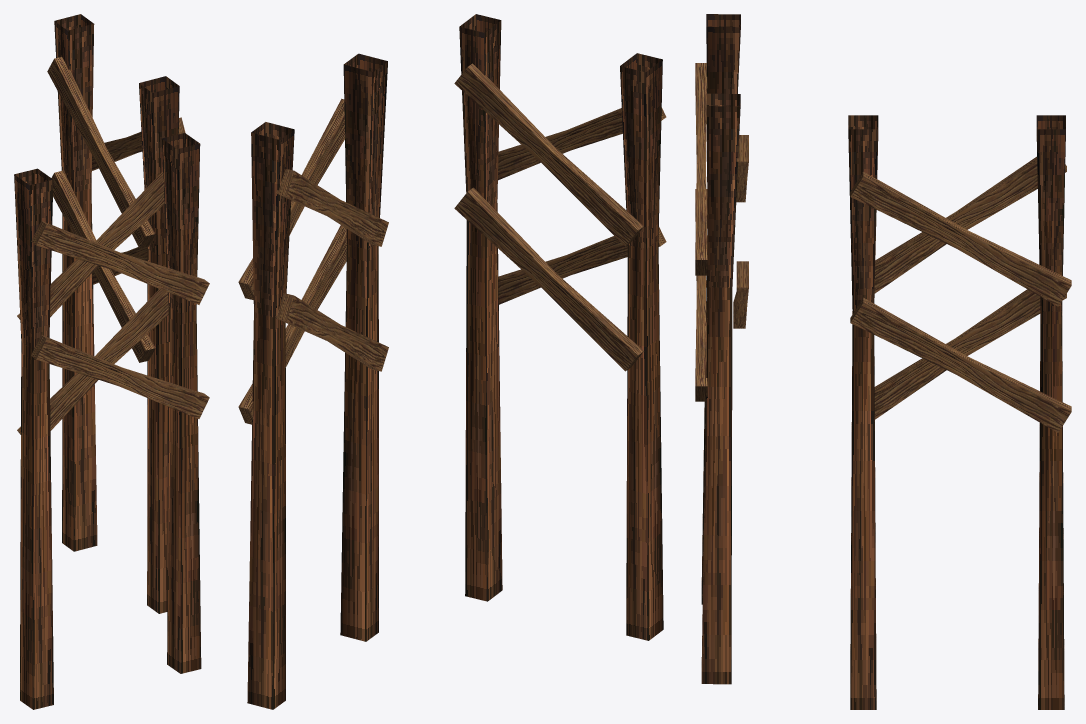
Rendered from LAKETOWN_WAREHOUSE2_PS_WH2_BIG_PLATPOSTS664__GX.obj.
The picture shows the model from 3 angles, left to right: view 1: azimuth 30°, elevation 25°; view 2: azimuth 150°, elevation 25°; view 3: azimuth 270°, elevation 25°; orthographic projection. The views are drawn at different scales.
Visible parts, largest first — view 1: latPosts664__GX; view 2: latPosts664__GX; view 3: latPosts664__GX.
Part boxes in pixels (x1,y1,x2,y2): latPosts664__GX: [14, 14, 209, 709]; latPosts664__GX: [238, 14, 666, 709]; latPosts664__GX: [695, 14, 1071, 709].
Bounding box in the file's own units: 365 × 821 × 484.
